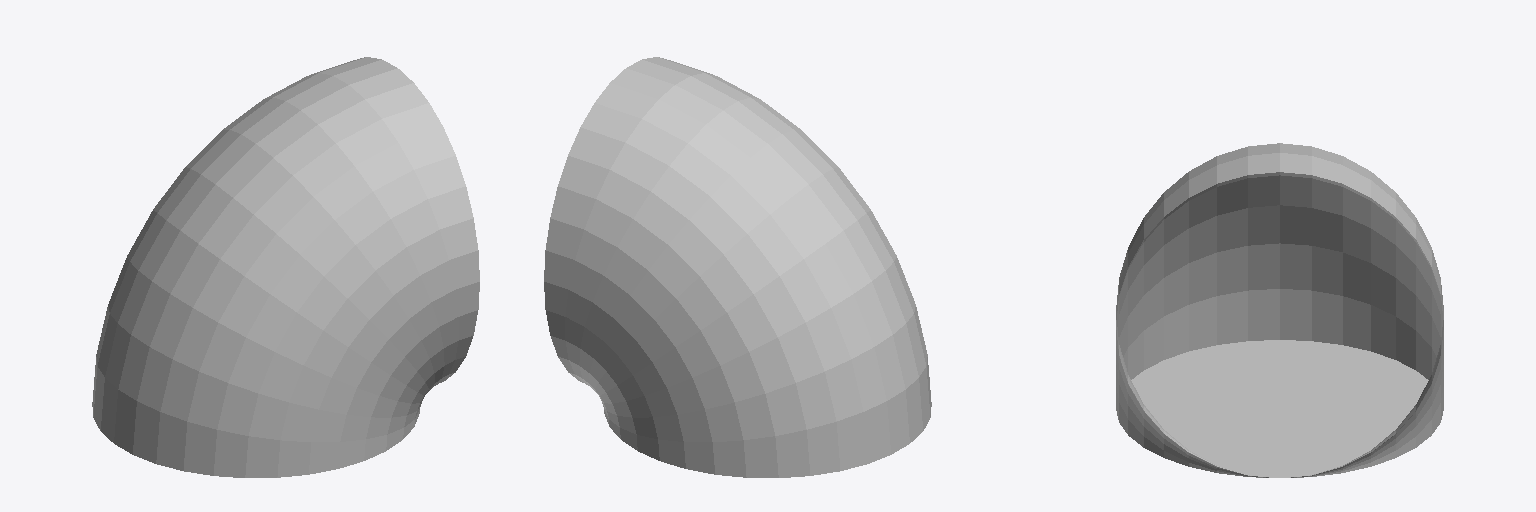
Rendered from joint.obj.
The picture shows the model from 3 angles: view 1: azimuth 30°, elevation 25°; view 2: azimuth 150°, elevation 25°; view 3: azimuth 270°, elevation 25°; orthographic projection.
Parts seen in each view (by area): view 1: Sphere.002; view 2: Sphere.002; view 3: Sphere.002.
Part boxes in pixels (x1,y1,x2,y2): Sphere.002: (92,57,479,477); Sphere.002: (544,57,931,477); Sphere.002: (1116,143,1443,477).
Bounding box in the file's own units: 0.9102 × 0.9378 × 0.9102.